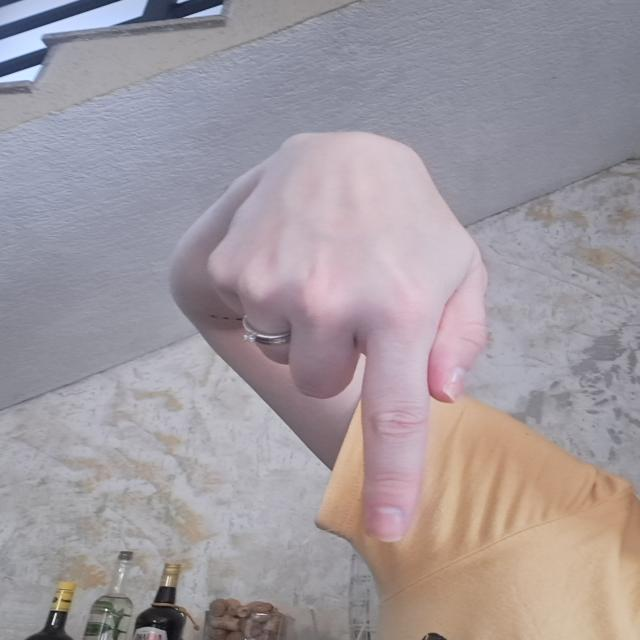Q: (207, 122, 494, 551)
